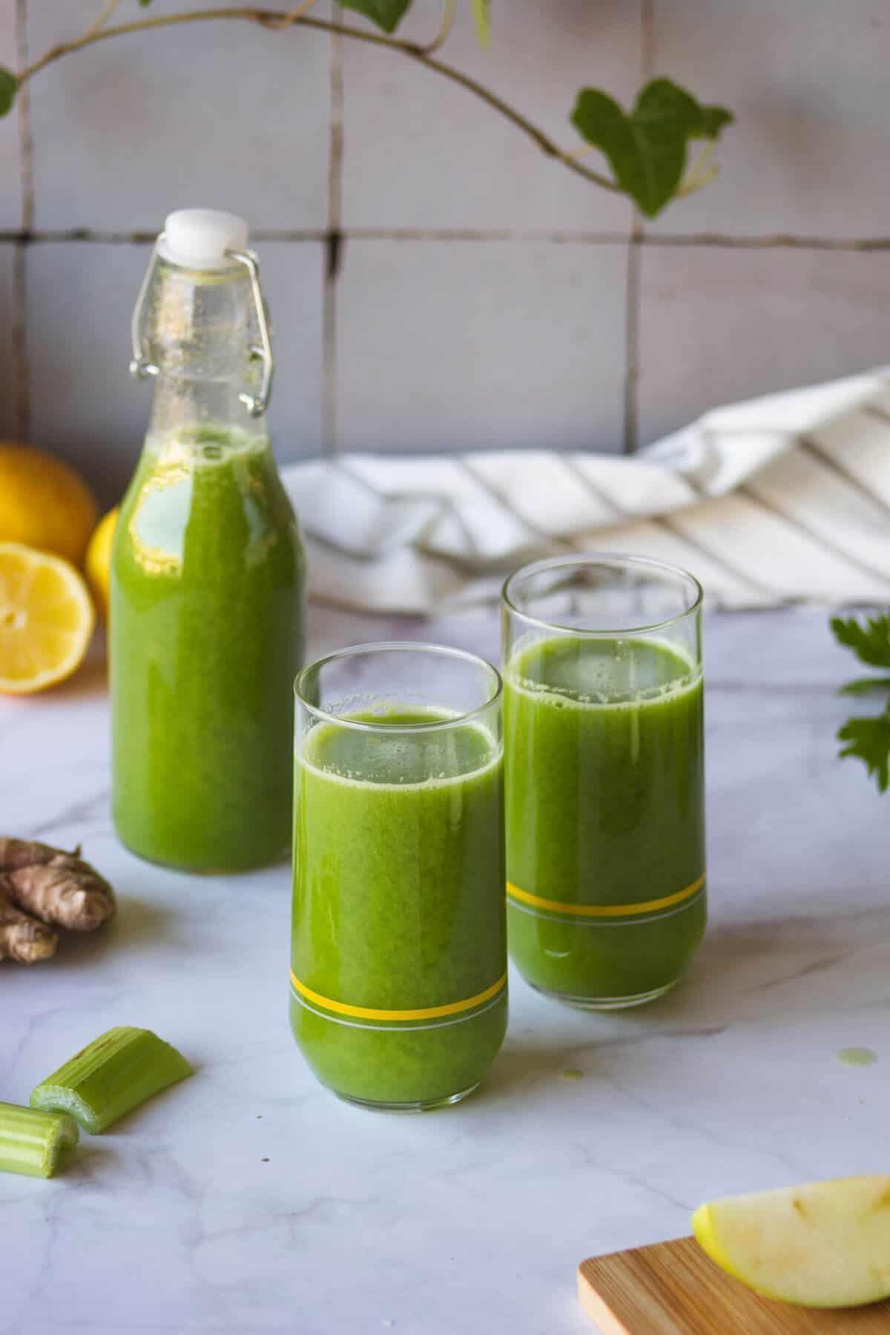bottle-glass: (100, 206, 312, 880)
glass-normal: (284, 638, 511, 1112), (496, 551, 710, 1009)
